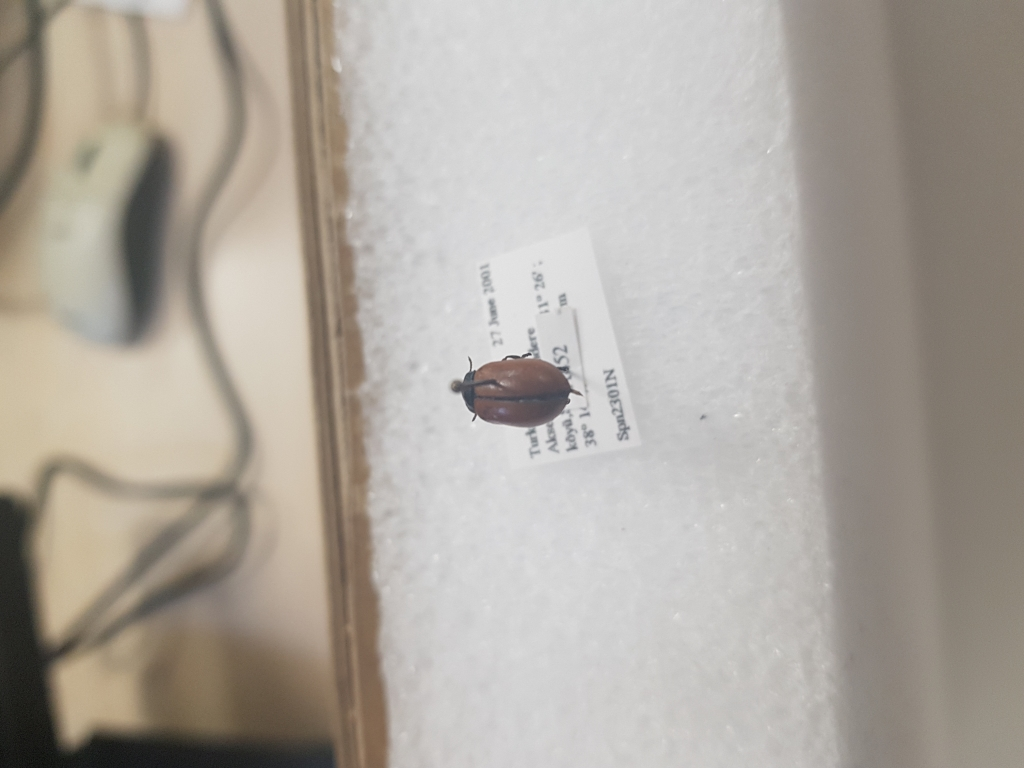Chrysomela_populi: (459, 351, 584, 427)
